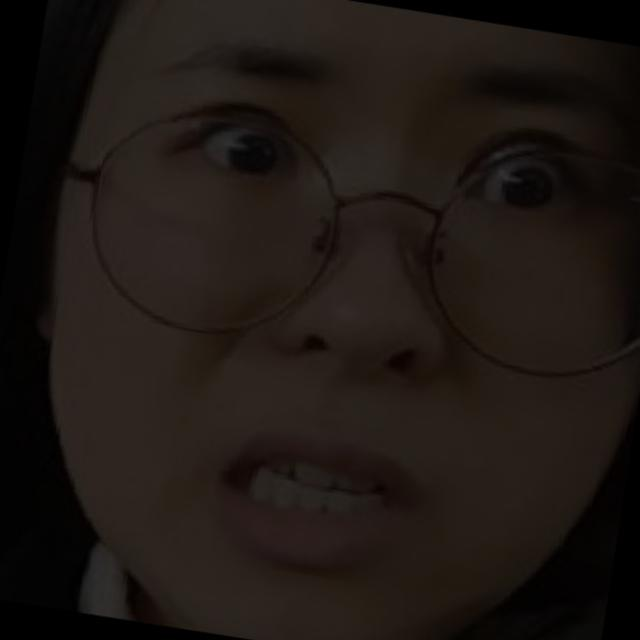Angry: (50, 45, 640, 606)
